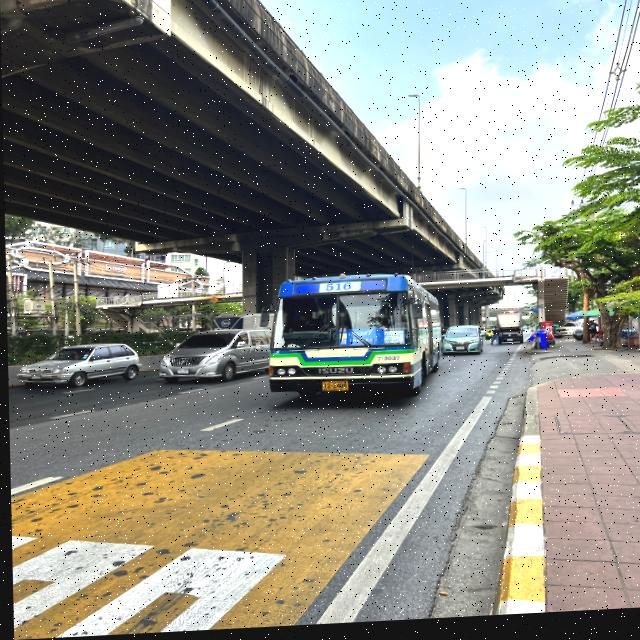BMTA-bus: (263, 275, 441, 409)
Bus-Line-Number: (319, 284, 359, 296)
Destination-Sign-Normal: (338, 331, 383, 350)
